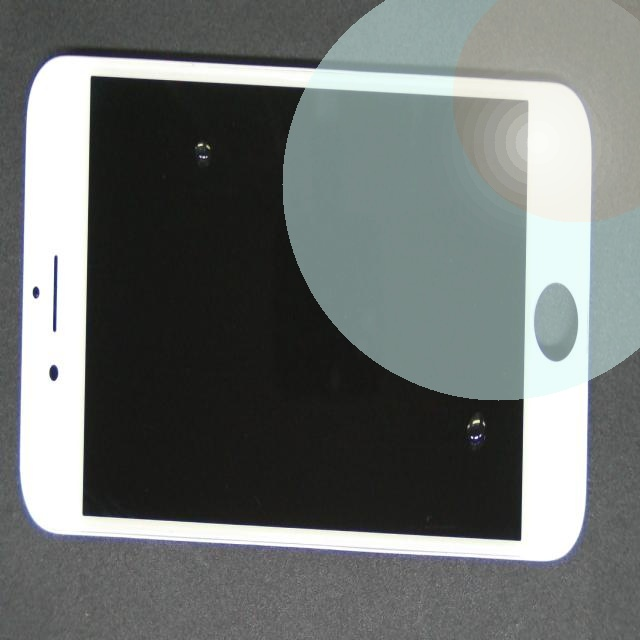oil: (251, 190, 640, 608), (121, 60, 313, 204)
